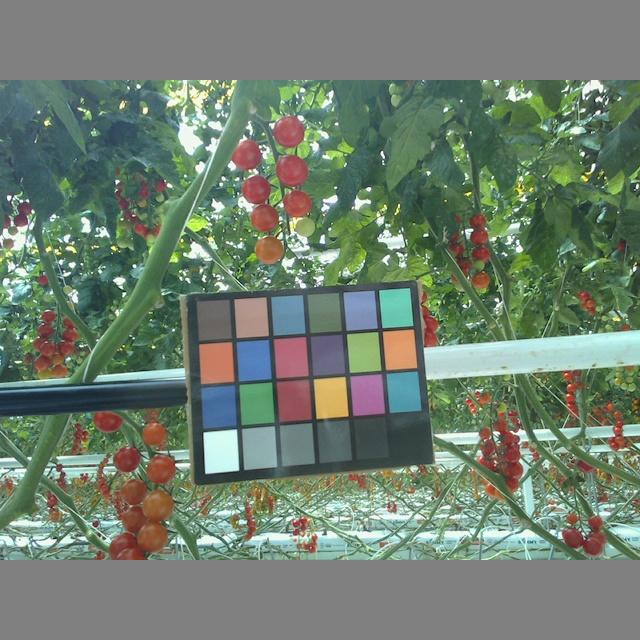green: (294, 216, 315, 237)
pink: (141, 488, 175, 523), (133, 520, 168, 553), (118, 506, 149, 533), (145, 455, 177, 481), (138, 419, 166, 447), (254, 237, 283, 264), (117, 478, 146, 503)
red: (273, 112, 303, 148), (276, 155, 308, 187), (250, 203, 279, 233), (111, 443, 142, 471), (242, 176, 270, 206), (231, 140, 260, 168), (280, 191, 311, 216)
